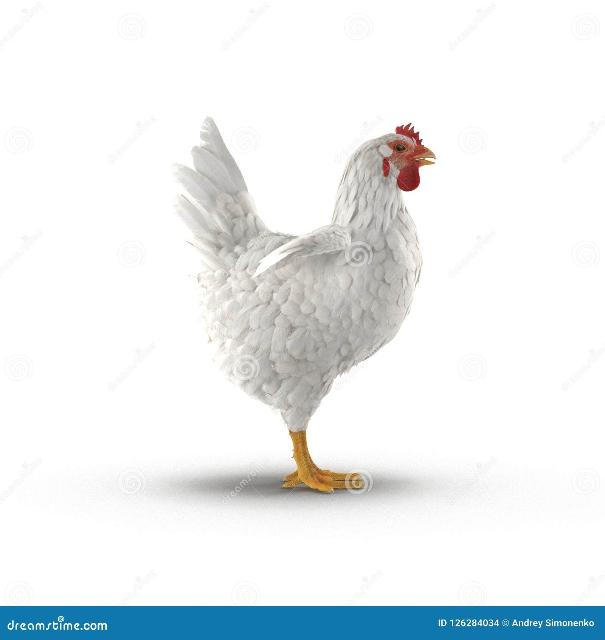Chicken: (172, 114, 436, 490)
